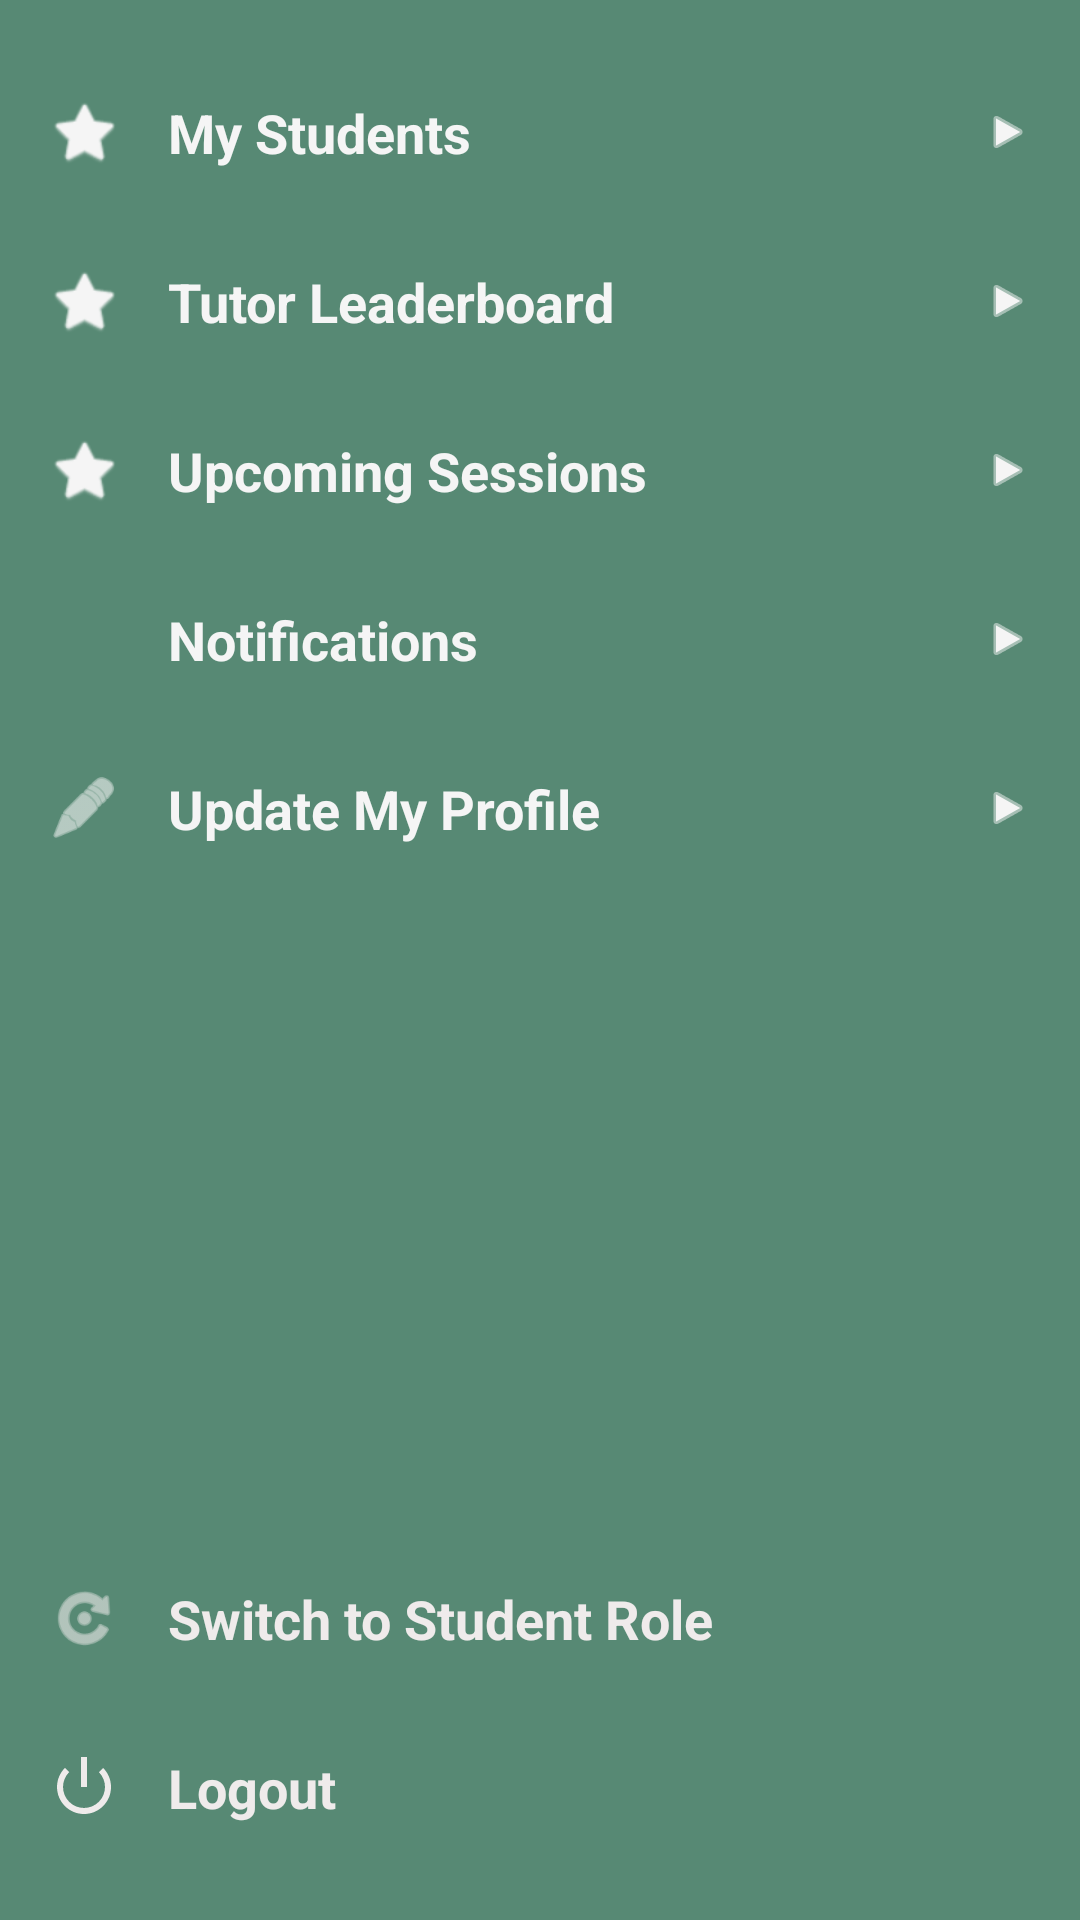

Named icons in this screenshot (1080*1920) and their centers, [x,y]:
edit: [83,807]
lock power off: [84,1785]
play: [1008,132], [1008,301], [1008,470], [1008,639], [1008,808]
rotate: [84,1618]
star on: [85,132], [85,301], [85,470]
